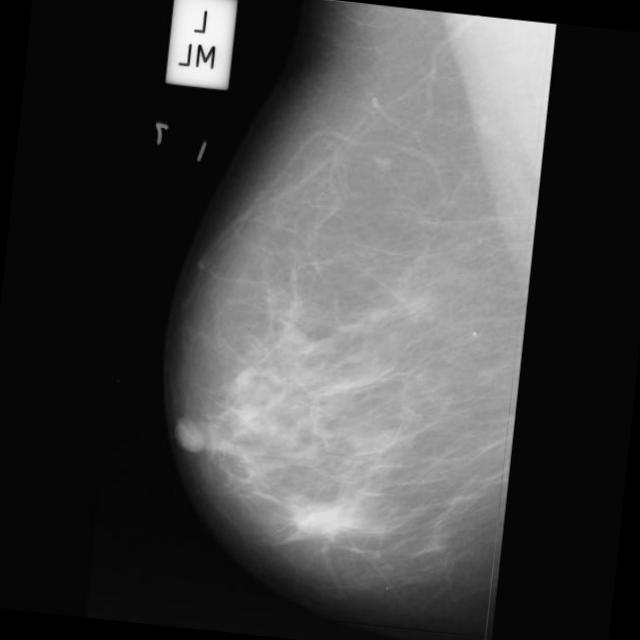ASYM: (292, 494, 346, 546)
